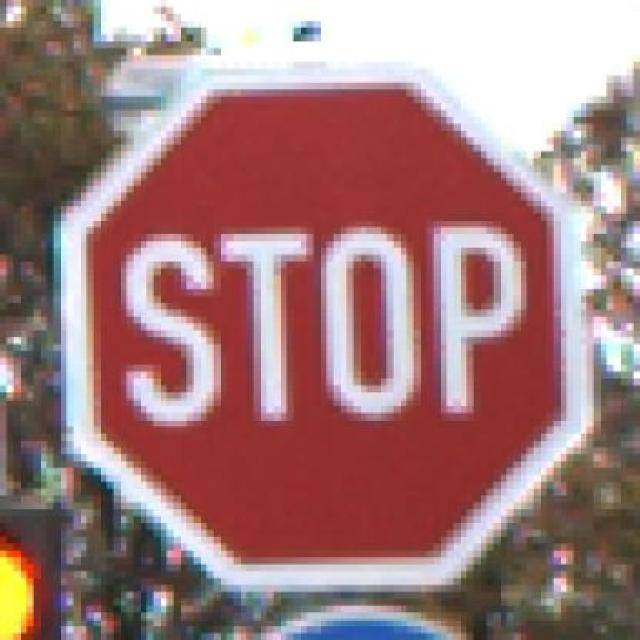Stop_Sign: (46, 47, 600, 598)
